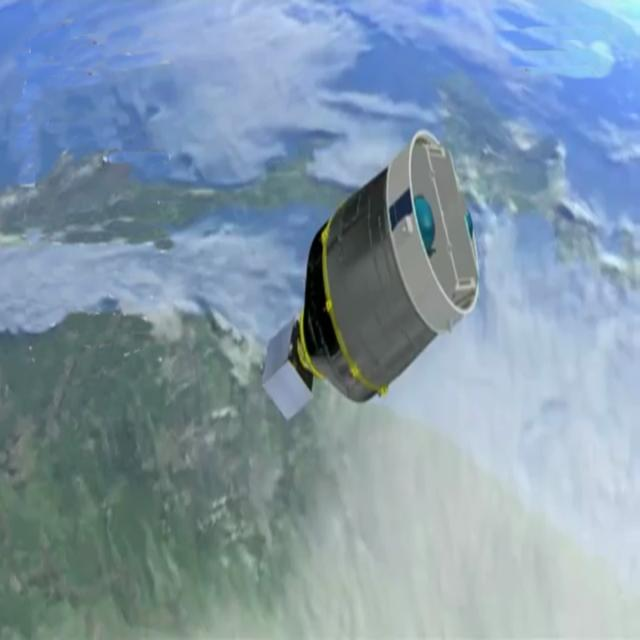satellite: (266, 90, 504, 439)
